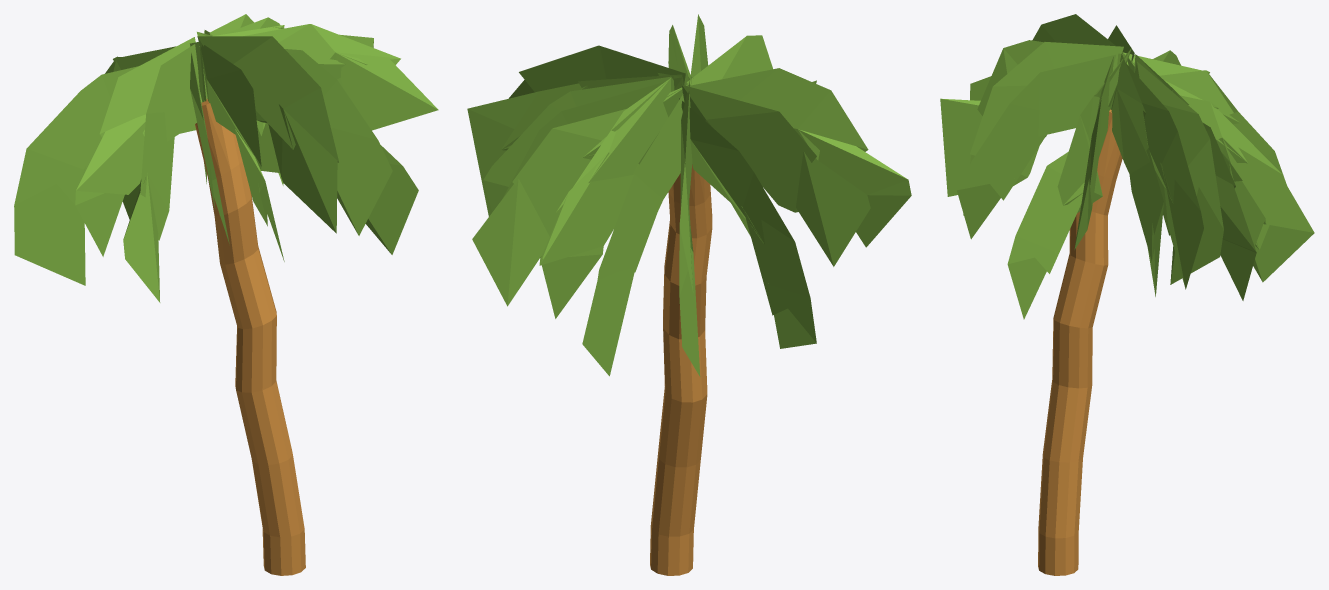
3 views of the same model, side by side, from view 1: azimuth 30°, elevation 25°; view 2: azimuth 150°, elevation 25°; view 3: azimuth 270°, elevation 25° (orthographic). The views are drawn at different scales.
Parts seen in each view (by area): view 1: mesh_551291561, group_2033907984, group_199317501, group_1563798512, group_303723010, group_137293426, group_2013818063, group_1112982328, group_1744041653, group_1774307138, group_1114674819; view 2: mesh_551291561, group_303723010, group_761979314, group_1221962360, group_1563798512, group_2033907984, group_2100156615, group_1559828347, group_137293426, group_1114674819, group_167516316, group_1112982328 (+3 smaller); view 3: mesh_551291561, group_2013818063, group_1744041653, group_2100156615, group_167516316, group_1559828347, group_671833391, group_199317501, group_1112982328, group_761979314, group_1114674819, group_137293426 (+2 smaller).
Part boxes in pixels (<box>): mesh_551291561: <box>195,98,305,575</box>; group_2033907984: <box>14,66,195,285</box>; group_199317501: <box>197,36,338,233</box>; group_1563798512: <box>123,44,200,302</box>; group_303723010: <box>75,37,204,256</box>; group_137293426: <box>243,24,438,130</box>; group_2013818063: <box>255,49,392,235</box>; group_1112982328: <box>201,45,284,261</box>; group_1744041653: <box>197,32,418,254</box>; group_1774307138: <box>190,53,229,243</box>; group_1114674819: <box>105,42,204,102</box>; mesh_551291561: <box>650,164,712,575</box>; group_303723010: <box>682,85,870,266</box>; group_761979314: <box>472,84,689,306</box>; group_1221962360: <box>539,78,671,318</box>; group_1563798512: <box>688,68,911,247</box>; group_2033907984: <box>679,98,816,348</box>; group_2100156615: <box>582,94,684,376</box>; group_1559828347: <box>467,74,682,216</box>; group_137293426: <box>509,45,685,98</box>; group_1114674819: <box>679,81,700,376</box>; group_167516316: <box>483,76,674,211</box>; group_1112982328: <box>686,35,816,85</box>; mesh_551291561: <box>1038,109,1122,575</box>; group_2013818063: <box>957,54,1115,239</box>; group_1744041653: <box>1007,48,1131,319</box>; group_2100156615: <box>1127,61,1314,282</box>; group_167516316: <box>1126,63,1203,289</box>; group_1559828347: <box>1111,53,1163,296</box>; group_671833391: <box>1135,61,1223,284</box>; group_199317501: <box>963,42,1123,215</box>; group_1112982328: <box>940,40,1125,196</box>; group_761979314: <box>1126,54,1256,300</box>; group_1114674819: <box>1122,52,1286,184</box>; group_137293426: <box>1074,56,1113,249</box>.
Size of the model in its own units: 79.66 by 112 by 73.18.
